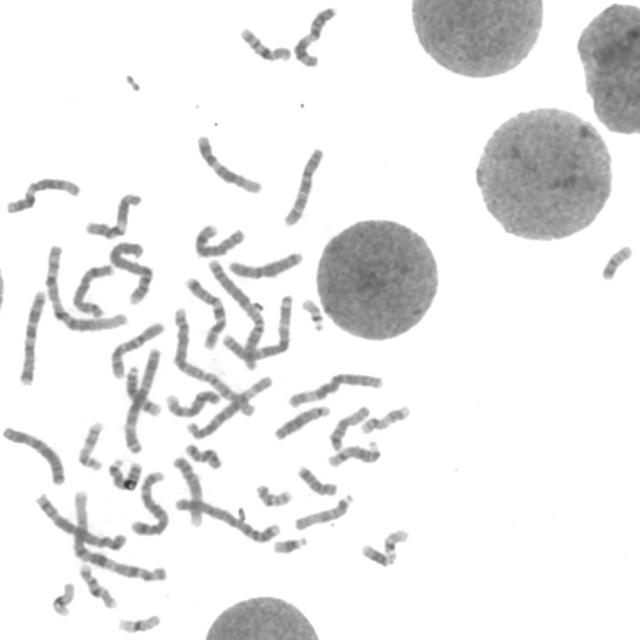A1: (66, 488, 170, 585), (41, 240, 130, 333)
A2: (168, 302, 258, 418), (204, 255, 268, 368)
A3: (220, 290, 296, 362), (120, 342, 165, 456)
B4: (172, 494, 283, 544), (105, 238, 155, 306)
B5: (31, 488, 130, 552), (127, 467, 170, 538)
C10: (280, 142, 327, 228), (107, 317, 167, 380)
C11: (290, 2, 340, 68), (82, 189, 144, 240)
C12: (193, 130, 265, 196), (3, 173, 83, 216)
C6: (184, 371, 276, 441), (284, 368, 385, 410)
C7: (180, 272, 229, 351), (15, 285, 49, 387)
C8: (67, 260, 116, 319), (190, 220, 248, 259)
C9: (170, 452, 206, 528), (163, 386, 222, 420)
D13: (270, 401, 333, 442), (104, 454, 144, 492)
D14: (122, 360, 164, 417), (324, 437, 383, 469)
D15: (292, 489, 356, 532), (326, 402, 373, 453)
E16: (75, 559, 120, 610), (237, 23, 294, 63)
E17: (357, 401, 413, 435), (75, 417, 106, 472)
E18: (294, 462, 339, 498), (182, 439, 224, 470)
F19: (114, 610, 164, 634), (48, 578, 78, 618)
F20: (599, 240, 635, 282), (252, 481, 295, 508)
G21: (358, 540, 396, 568), (270, 532, 310, 556)
G22: (379, 525, 413, 561), (298, 294, 327, 333)
X: (0, 422, 69, 487), (224, 248, 306, 280)
